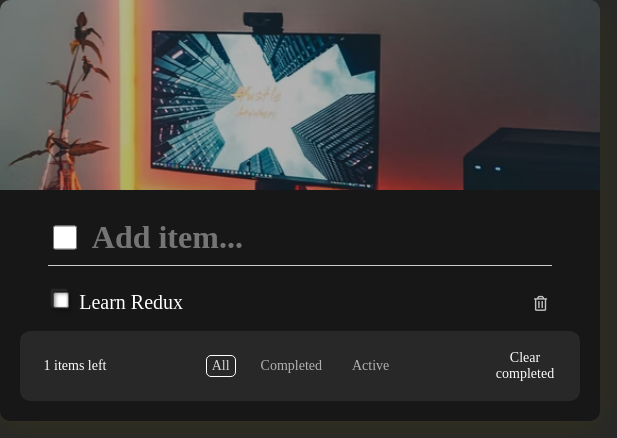
Test: ToDoListContainer › should toggle todo completeness
Step 1. Click the checkbox with test id "list-item-checkbox" → (61, 300), box [53,291,69,309]
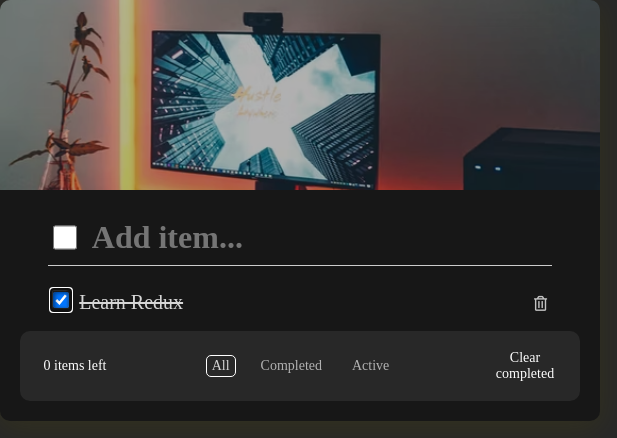
Check: the checkbox with test id "list-item-checkbox" is checked, box [53,291,69,309]
Check: the text with test id "footer-counter" reads "0 items left", box [44,358,106,373]
